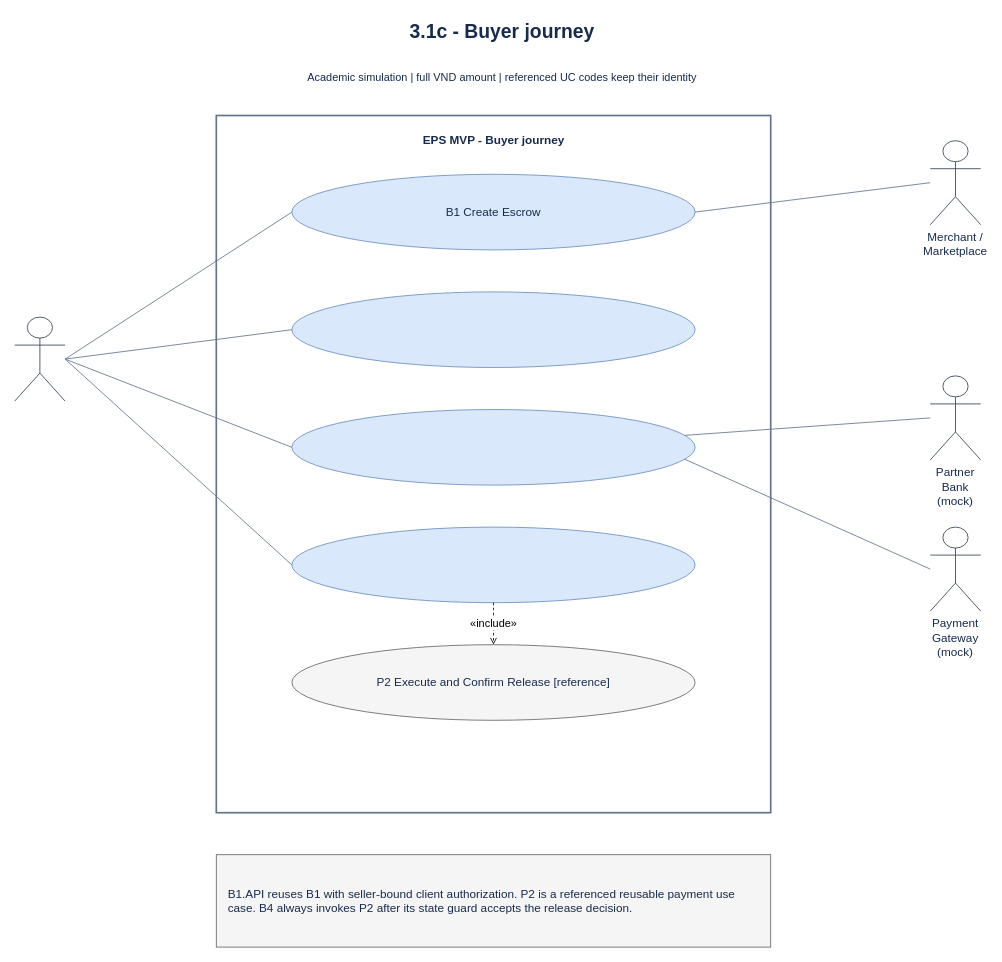
This 1002x962 diagram has some shape labels left out. Here are the shapes that lost their labels. From the top down, the box of each, then its label:
(291, 291, 695, 368): B2 Cancel Unfunded Escrow
(14, 316, 65, 401): Buyer
(291, 409, 695, 485): B3 Fund Escrow
(291, 526, 695, 603): B4 Confirm Acceptance and Request Release
